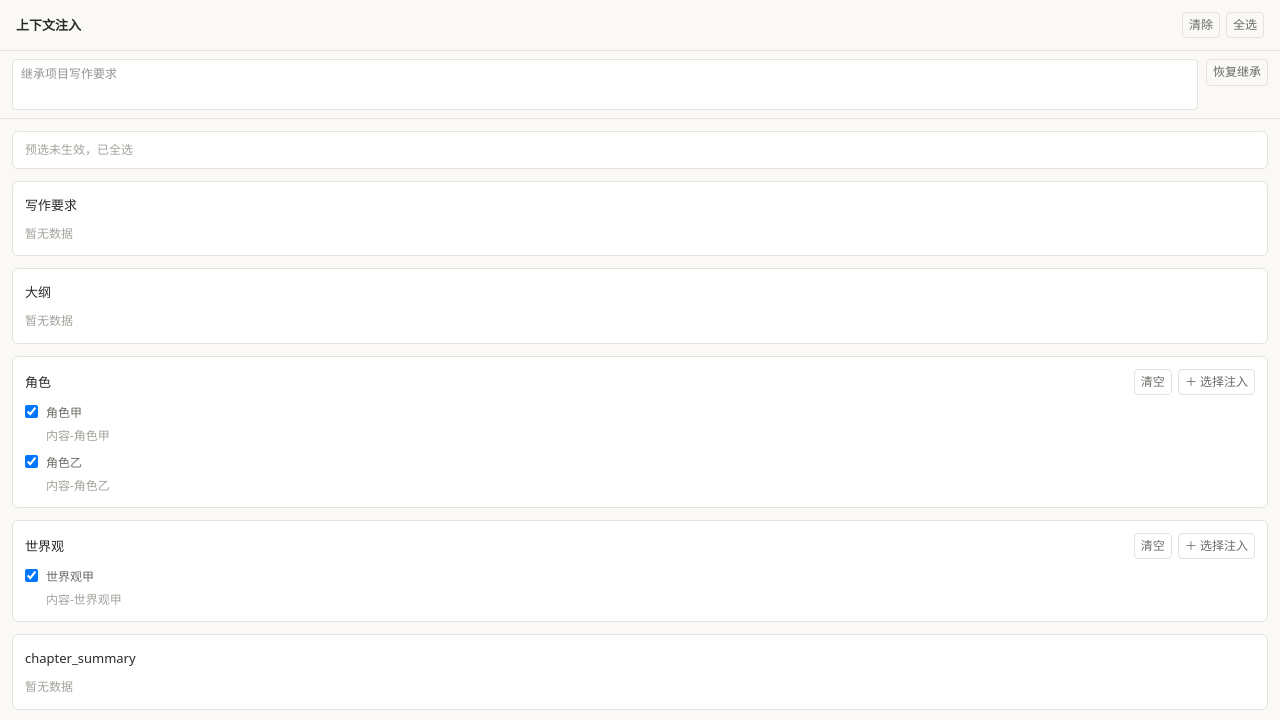
it: #1405 — 3 清除后可恢复注入 › 清除角色类 → 经「＋ 选择注入」重选角色甲 → 外传恢复非空，另两类不受扰
The image size is (1280, 720).
Click the button with test id "context-clear-character_setting". click: click(1153, 382)
box: [1134,369,1172,395]
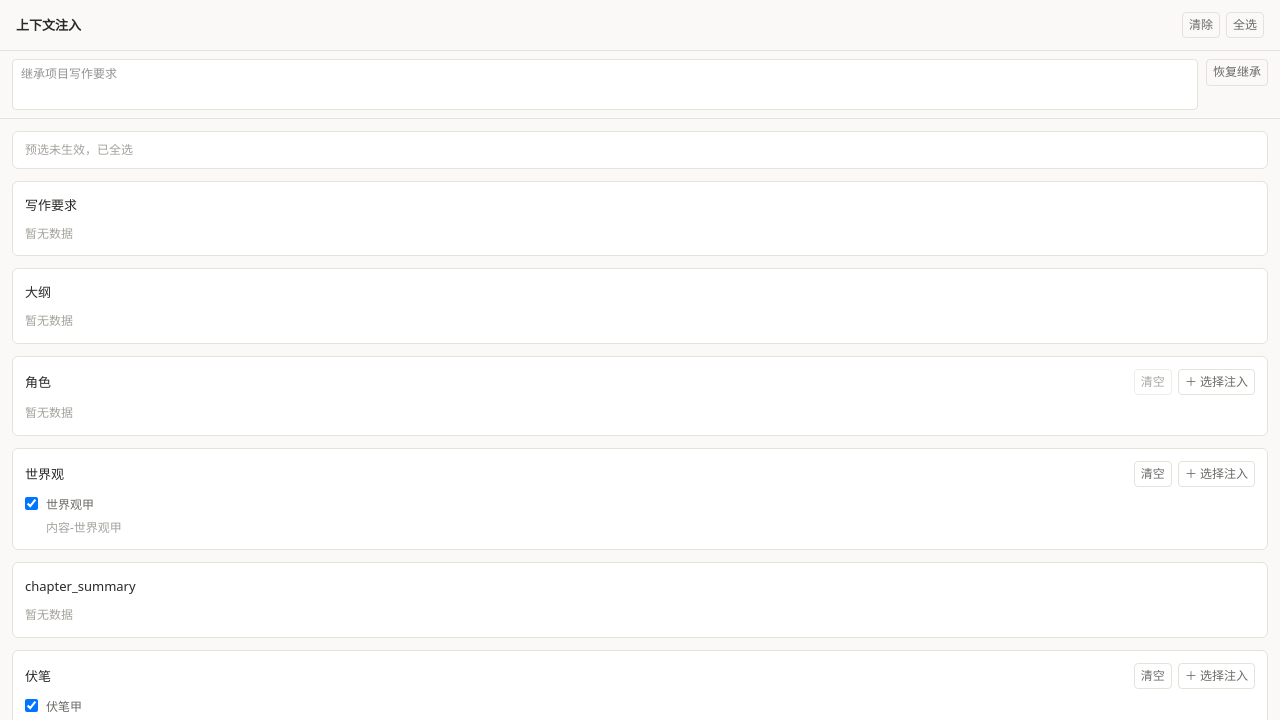
Click the button with test id "context-pick-character_setting". click: click(1216, 382)
box: [1178,369,1255,395]
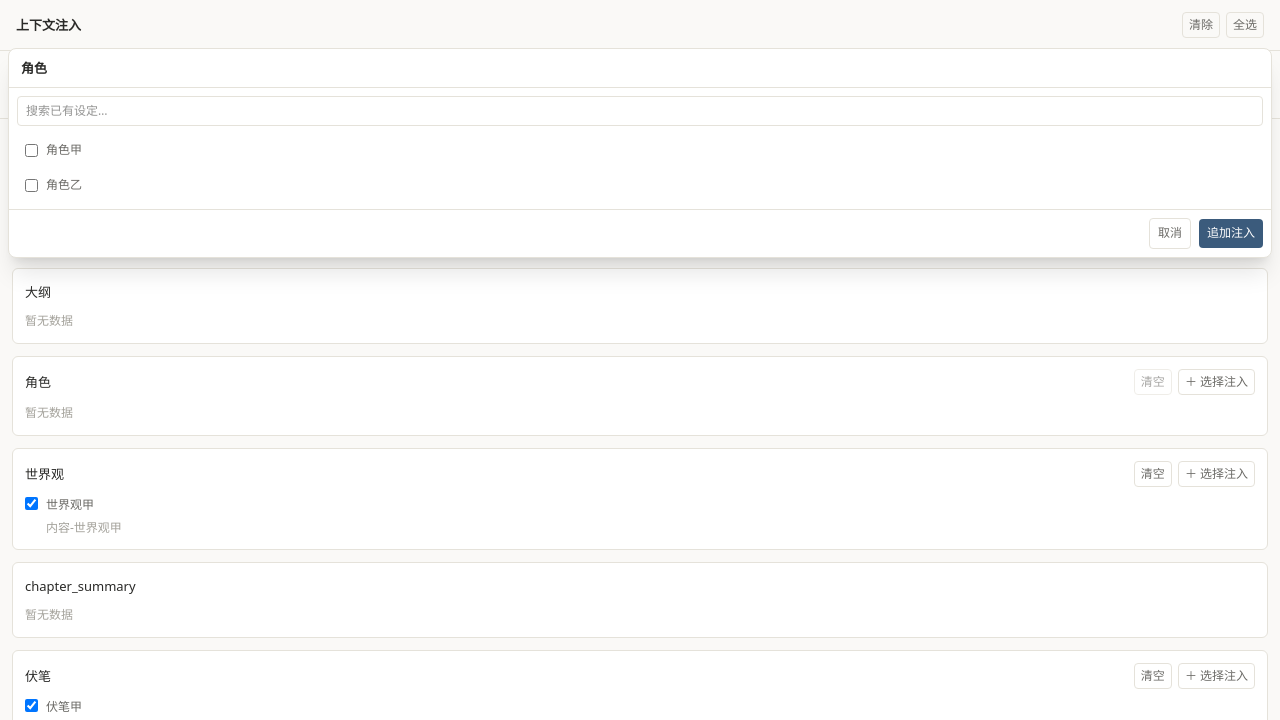
Expected: the text "角色甲" is shown, [25,142,82,158]
Click the checkbox labelled "角色甲". click: click(32, 151)
box: [25,144,38,157]
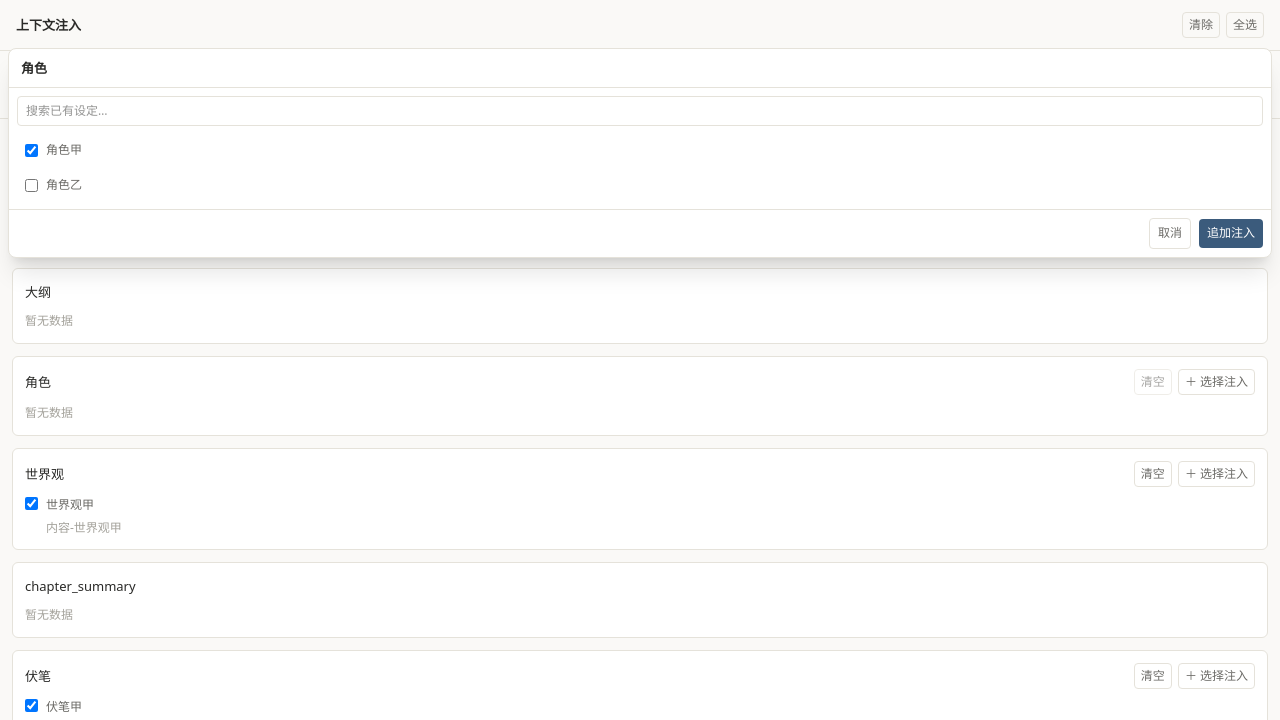
Click the button with test id "context-picker-confirm". click: click(1231, 234)
box: [1199,219,1263,248]
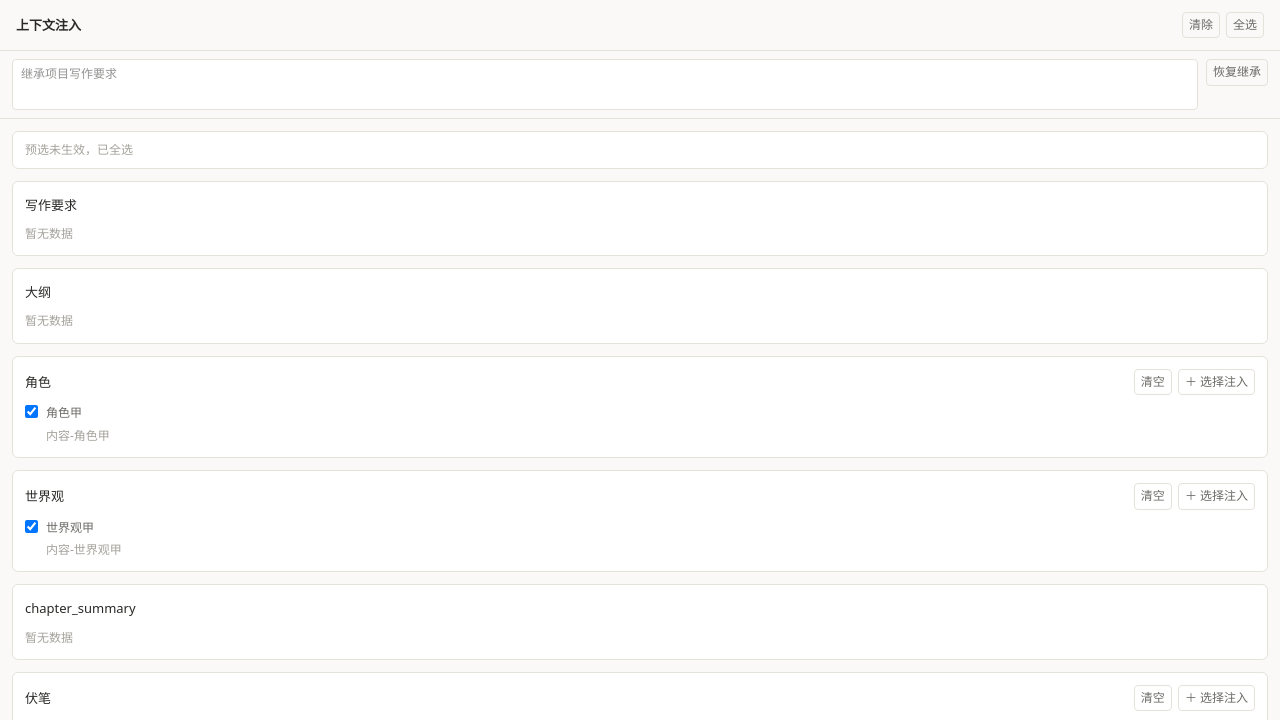
Expected: the button with test id "context-clear-character_setting" is enabled, [1134,369,1172,395]
